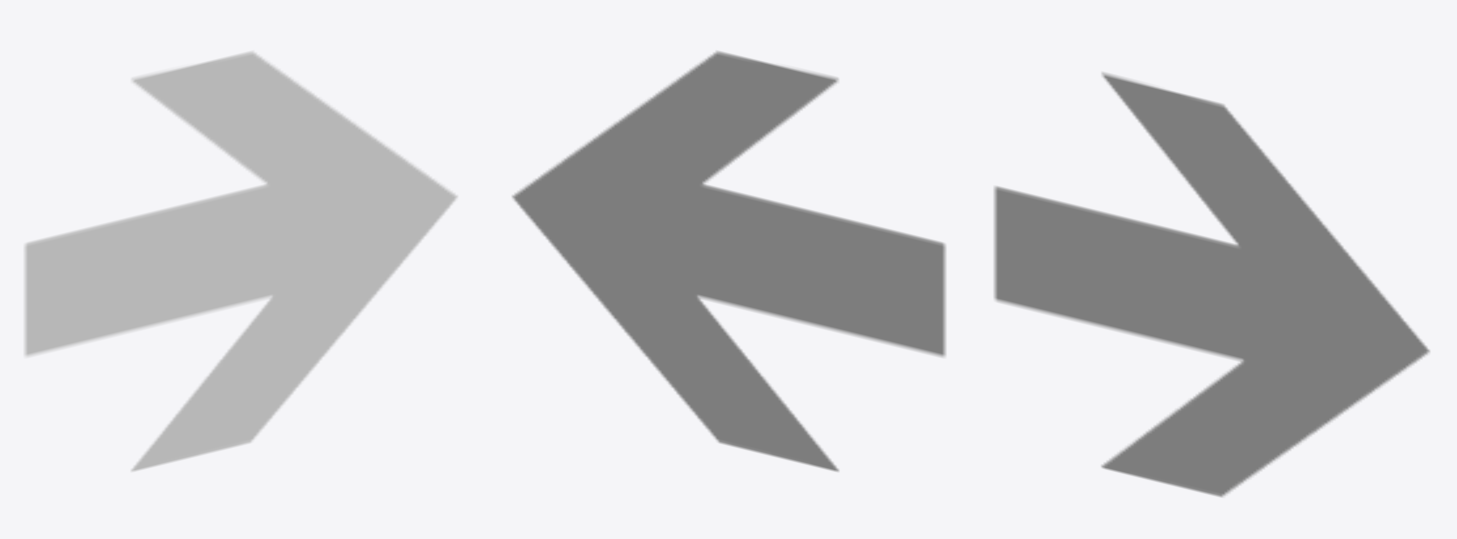
Rendered from SM_Location_Sign_Arrow.glb.
The picture shows the model from 3 angles, left to right: view 1: azimuth 30°, elevation 25°; view 2: azimuth 150°, elevation 25°; view 3: azimuth 330°, elevation 25°; orthographic projection.
Visible parts, largest first — view 1: SM_Location_Sign_Arrow; view 2: SM_Location_Sign_Arrow; view 3: SM_Location_Sign_Arrow.
Boxes of the visible parts, bbox=[...] form: SM_Location_Sign_Arrow: bbox=[23, 51, 457, 471]; SM_Location_Sign_Arrow: bbox=[512, 51, 946, 471]; SM_Location_Sign_Arrow: bbox=[993, 72, 1429, 497].
Bounding box in the file's own units: 0.1676 × 0.1571 × 3.33e-08.
Materials: 1 (1 with a texture image).
